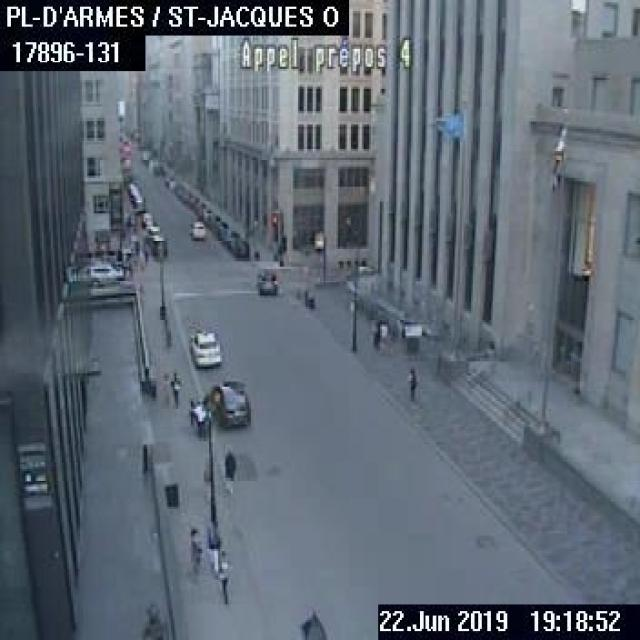pedestrian: (188, 391, 210, 439), (216, 549, 231, 602), (187, 524, 202, 574), (223, 444, 235, 492), (206, 529, 218, 571), (169, 370, 180, 406), (406, 367, 416, 398), (378, 320, 388, 350), (160, 369, 168, 405), (142, 242, 147, 264)
vehicle: (205, 377, 249, 424), (187, 329, 220, 367), (85, 263, 125, 284), (255, 267, 276, 293), (230, 234, 248, 256), (149, 234, 166, 254), (220, 226, 237, 245), (188, 218, 204, 236), (144, 224, 159, 240), (215, 219, 228, 236), (141, 211, 153, 225), (209, 212, 219, 228), (202, 207, 213, 220), (167, 247, 169, 249)
